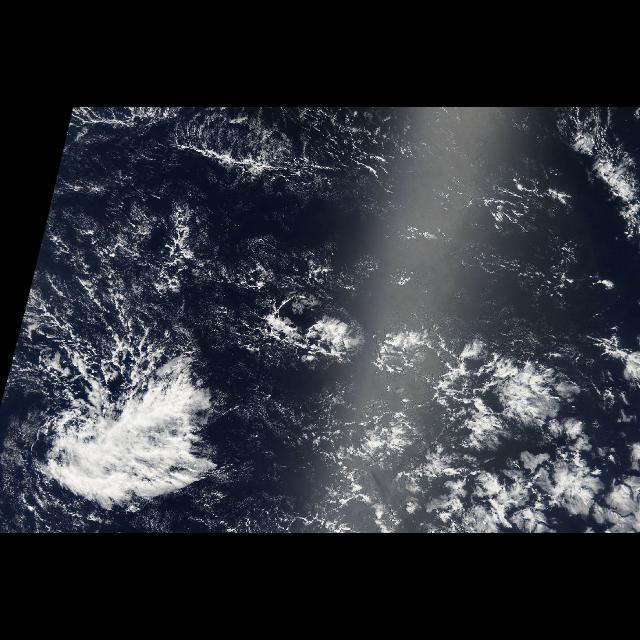Fish: (2, 132, 390, 516), (561, 133, 637, 239)
Flower: (257, 303, 639, 533)
Sugar: (26, 130, 402, 296)
